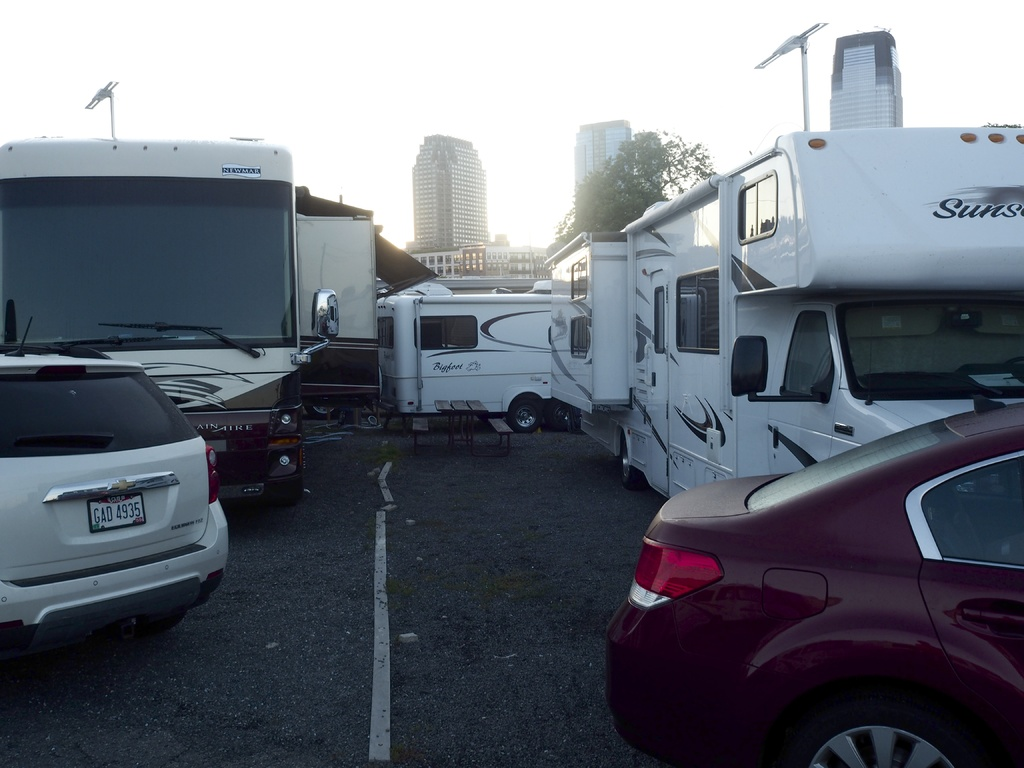Car: (602, 398, 1023, 767), (9, 337, 229, 663)
